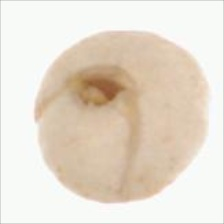L3: (67, 68, 130, 106)
L4: (33, 30, 208, 204)
